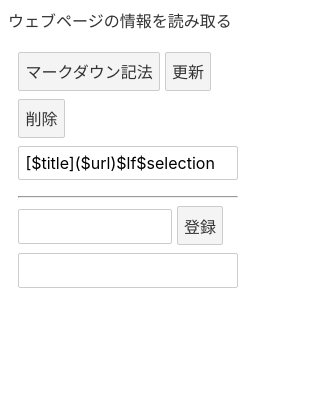
登録ボタンをクリックしたらフォーマットが登録される
The width and height of the screenshot is (320, 394).
Type "__name__" into the field with test id "new-name". click: (95, 227)
box: [18,209,172,244]
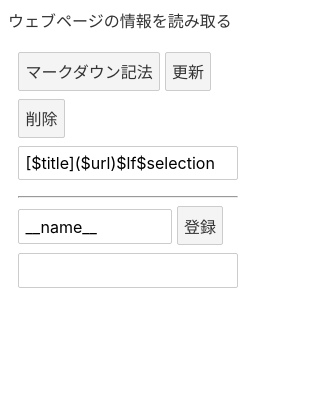
Type "__value__" into the field with test id "new-value". click: (128, 270)
box: [18,253,238,288]
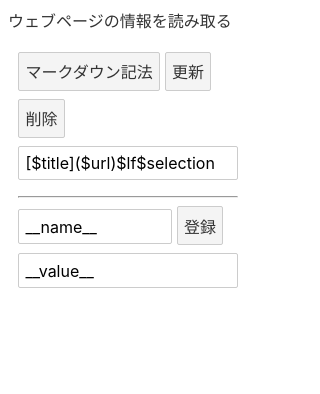
Click the button "登録". click: (200, 226)
box: [176,206,223,245]
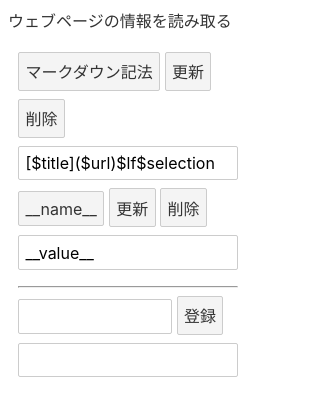
Check: the button "__name__" is shown, box [18,191,104,226]
Check: the 2nd field showing "__value__" is shown, box [18,235,238,270]
